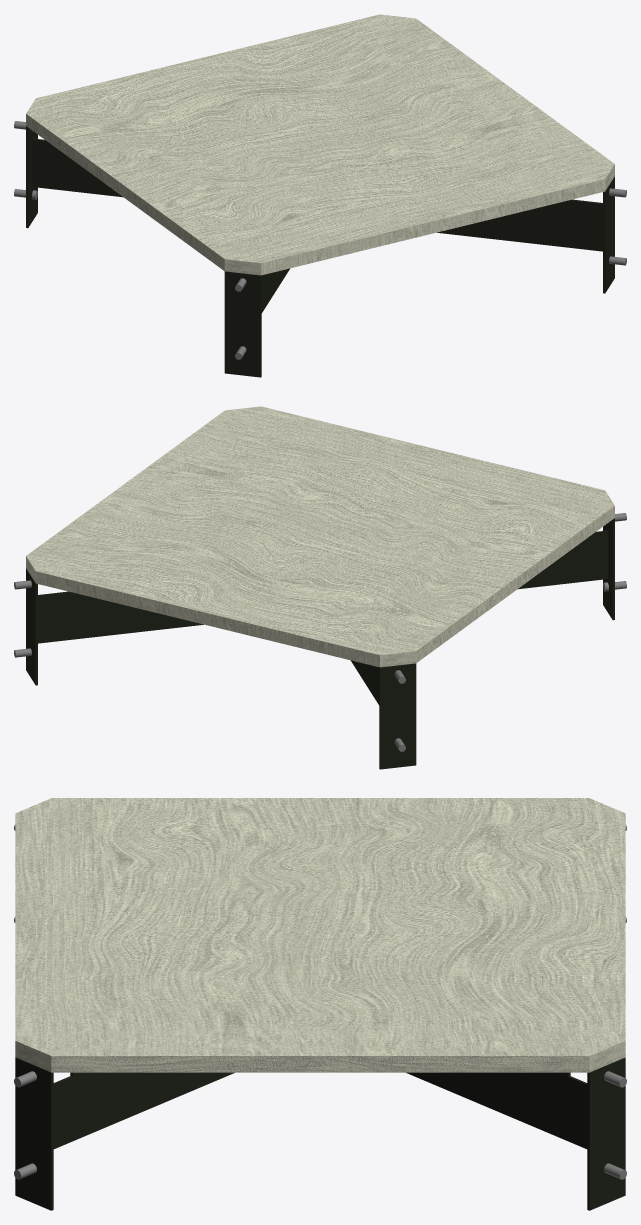
Rendered from Living Forest Shelf.fbx.
3 renders of one model, top to bottom at view 1: azimuth 30°, elevation 25°; view 2: azimuth 150°, elevation 25°; view 3: azimuth 270°, elevation 25°, orthographic. The views are drawn at different scales.
Visible parts, largest first — view 1: Extrude, Solid_Addition_9; view 2: Extrude, Solid_Addition_9; view 3: Extrude, Solid_Addition_9.
Boxes of the visible parts, box(x1,y1,x2,y2) form: Extrude: box(26, 14, 614, 275); Solid_Addition_9: box(26, 126, 614, 377); Extrude: box(26, 406, 614, 667); Solid_Addition_9: box(26, 518, 614, 769); Extrude: box(15, 798, 625, 1072); Solid_Addition_9: box(15, 1057, 625, 1210).
Bounding box in the file's own units: 603 × 168 × 603.
3 materials, 1 textured.
